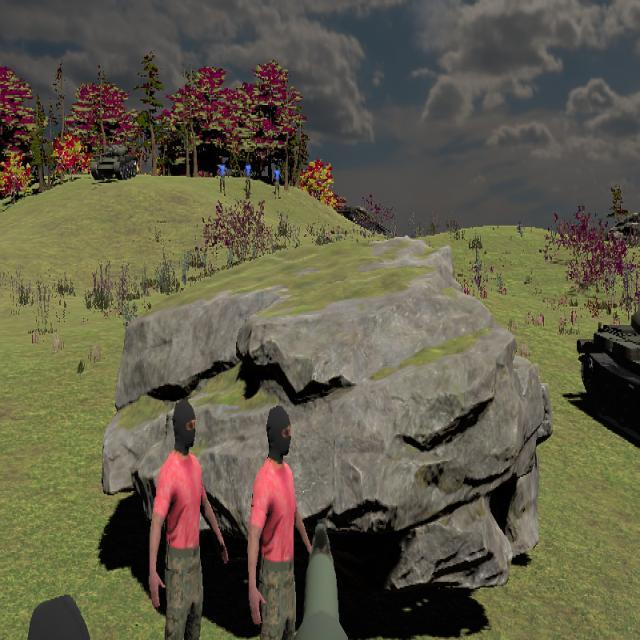Human: (144, 397, 231, 640), (148, 401, 228, 640), (245, 406, 313, 637), (216, 157, 229, 196), (216, 158, 229, 196), (243, 158, 254, 201), (272, 164, 283, 199)
Tank: (577, 297, 640, 462), (90, 144, 137, 181)
